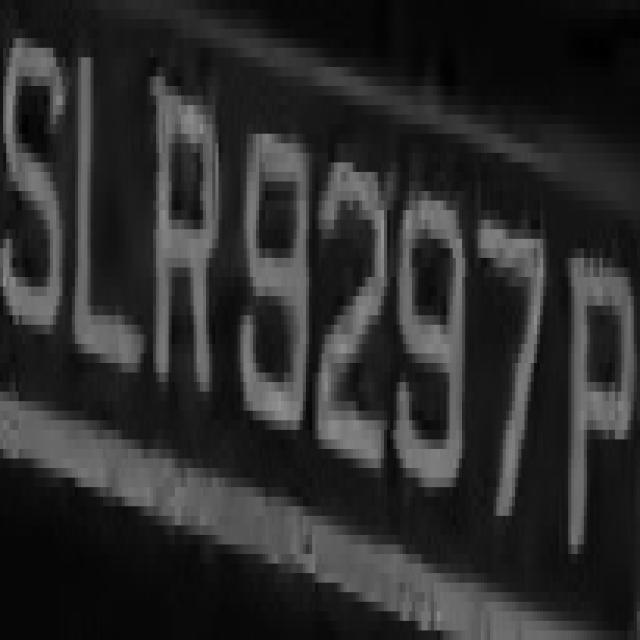2: (318, 105, 394, 506)
7: (466, 182, 546, 564)
9: (231, 86, 318, 478), (394, 163, 472, 507)
L: (62, 48, 147, 430)
P: (556, 210, 634, 554)
R: (146, 38, 222, 430)
S: (3, 0, 65, 353)
